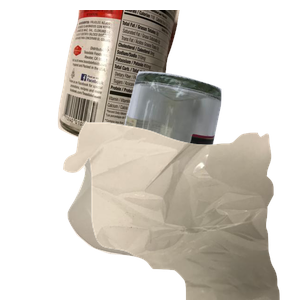glass: (109, 69, 300, 249)
metal: (55, 10, 227, 149)
plastic: (65, 123, 257, 300)
trash: (61, 120, 300, 300)
